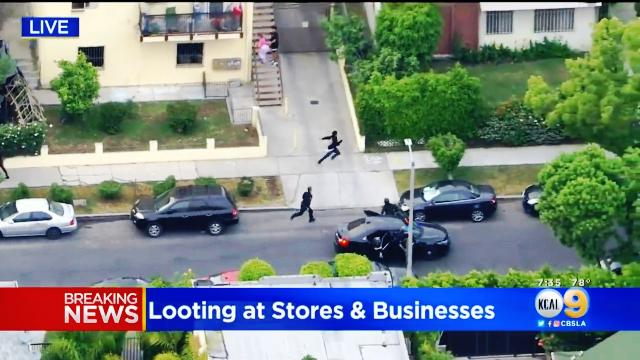berlari: (289, 182, 321, 226), (316, 127, 344, 167)
